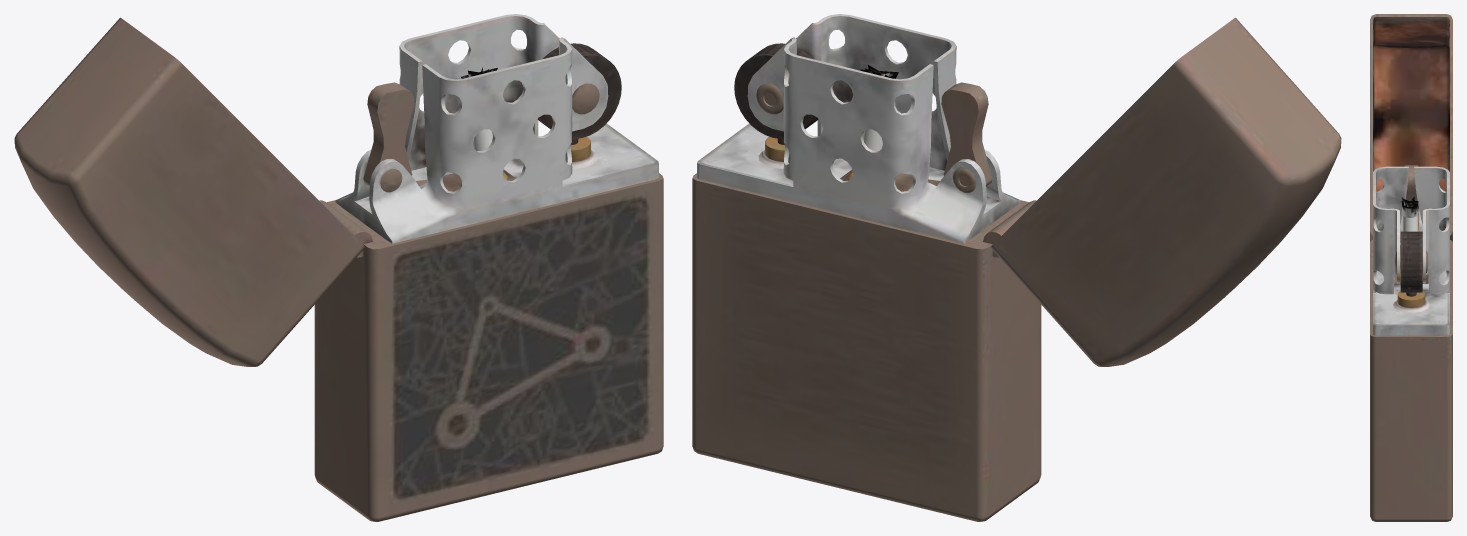
File: lighter.glb
3 renders of one model, left to right at view 1: azimuth 30°, elevation 25°; view 2: azimuth 150°, elevation 25°; view 3: azimuth 270°, elevation 25°, orthographic. The views are drawn at different scales.
Parts seen in each view (by area): view 1: vintage_lighter_body, vintage_lighter_hinge, vintage_lighter_hammer, vintage_lighter_flintstone; view 2: vintage_lighter_body, vintage_lighter_hinge, vintage_lighter_hammer, vintage_lighter_flintstone; view 3: vintage_lighter_body, vintage_lighter_hinge, vintage_lighter_flintstone, vintage_lighter_hammer.
Part boxes in pixels (x1=…): vintage_lighter_body: x1=314, y1=14, x2=663, y2=521; vintage_lighter_hinge: x1=14, y1=17, x2=372, y2=366; vintage_lighter_hammer: x1=363, y1=82, x2=414, y2=192; vintage_lighter_flintstone: x1=537, y1=43, x2=621, y2=138; vintage_lighter_body: x1=692, y1=14, x2=1041, y2=521; vintage_lighter_hinge: x1=983, y1=17, x2=1341, y2=366; vintage_lighter_hammer: x1=941, y1=82, x2=992, y2=192; vintage_lighter_flintstone: x1=734, y1=43, x2=818, y2=138; vintage_lighter_body: x1=1370, y1=166, x2=1452, y2=521; vintage_lighter_hinge: x1=1370, y1=14, x2=1452, y2=241; vintage_lighter_flintstone: x1=1395, y1=231, x2=1427, y2=292; vintage_lighter_hammer: x1=1404, y1=165, x2=1418, y2=224.
Size of the model in its own units: 0.0796 by 0.065 by 0.014.
2 materials, 2 textured.
